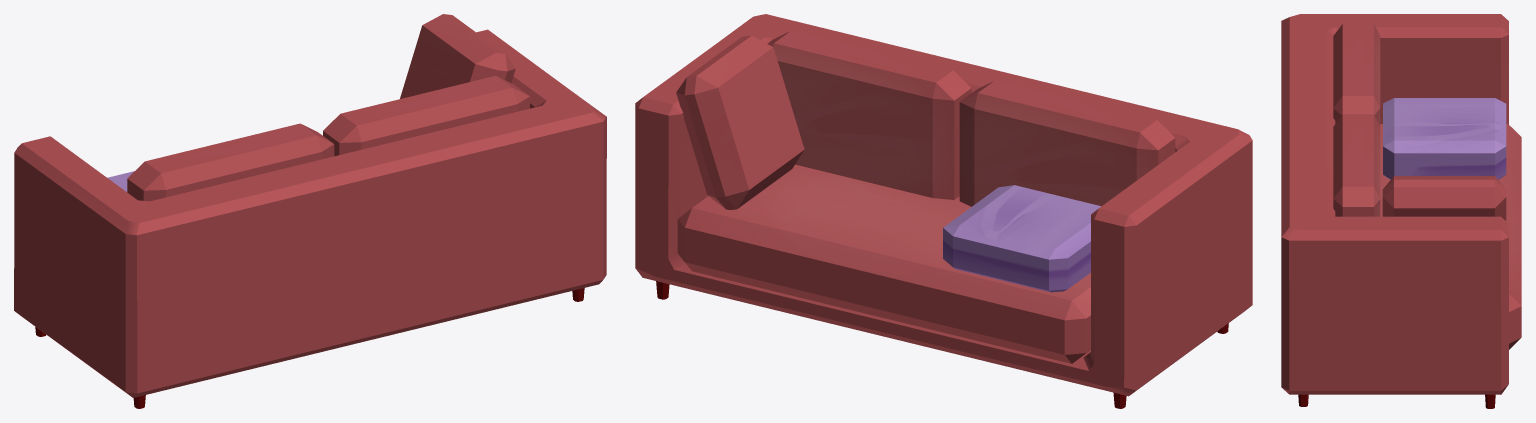
The model's file is couch.fbx.
The picture shows the model from 3 angles, left to right: view 1: azimuth 30°, elevation 25°; view 2: azimuth 150°, elevation 25°; view 3: azimuth 270°, elevation 25°; orthographic projection. The views are drawn at different scales.
Visible parts, largest first — view 1: couch; view 2: couch; view 3: couch.
Part boxes in pixels (box(x1,y1,x2,y2)): couch: box(14, 14, 606, 408); couch: box(635, 14, 1252, 408); couch: box(1281, 14, 1521, 408).
Size of the model in its own units: 2.35 by 1.04 by 1.07.
